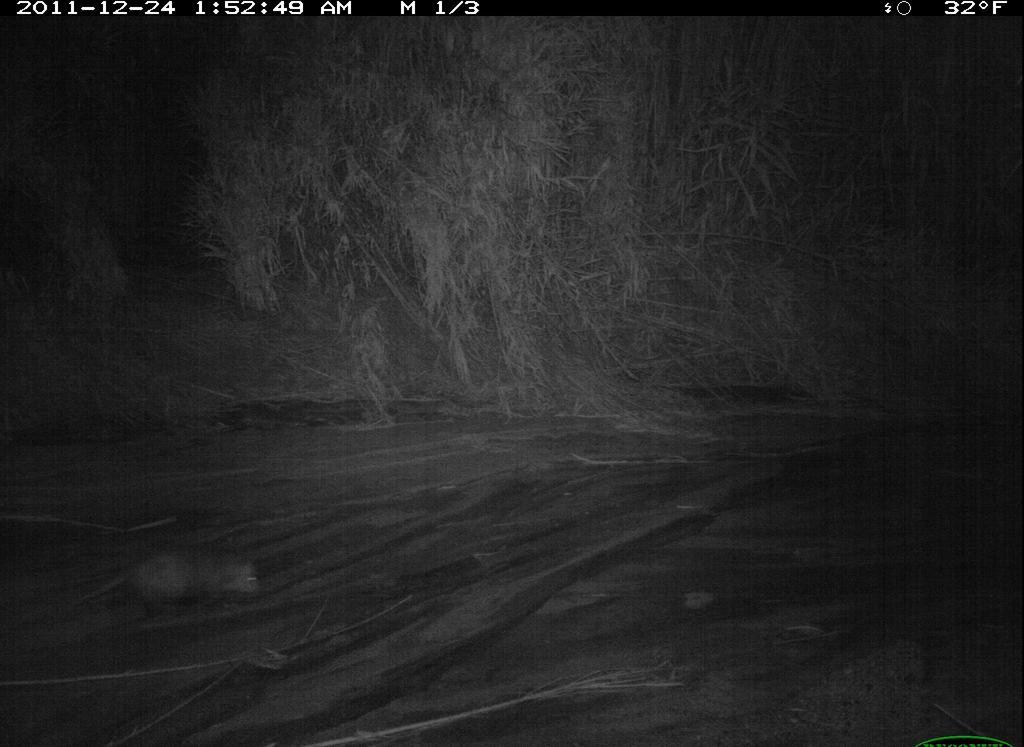opossum: (47, 546, 271, 621)
